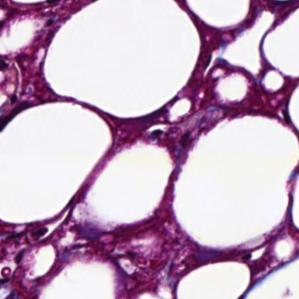inflammation: (22, 222, 53, 247), (142, 123, 172, 146)
